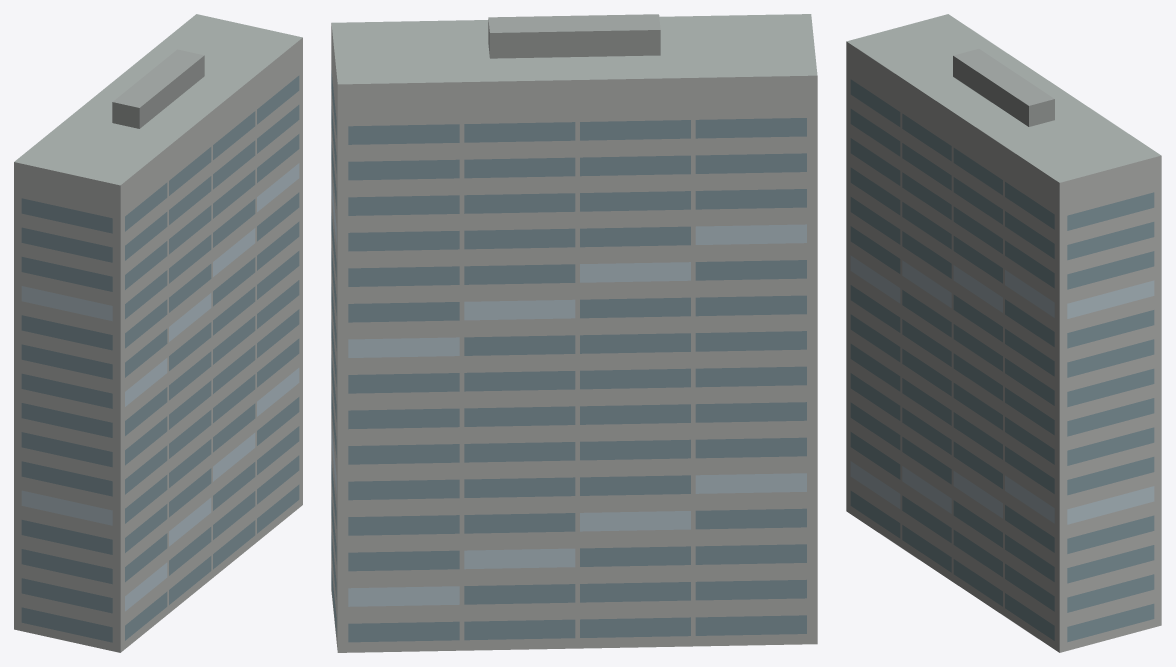
The model's file is fallback-godeok-ipark-extension-106.glb.
3 views of the same model, side by side, from view 1: azimuth 30°, elevation 25°; view 2: azimuth 150°, elevation 25°; view 3: azimuth 270°, elevation 25° (orthographic). The views are drawn at different scales.
Visible parts, largest first — view 1: fallback-godeok-ipark-extension-106; view 2: fallback-godeok-ipark-extension-106; view 3: fallback-godeok-ipark-extension-106.
Boxes of the visible parts, left/top/right/bottom form: fallback-godeok-ipark-extension-106: left=14, top=14, right=302, bottom=652; fallback-godeok-ipark-extension-106: left=331, top=14, right=817, bottom=652; fallback-godeok-ipark-extension-106: left=846, top=14, right=1161, bottom=652.
Size of the model in its own units: 37.61 by 51 by 29.64.
